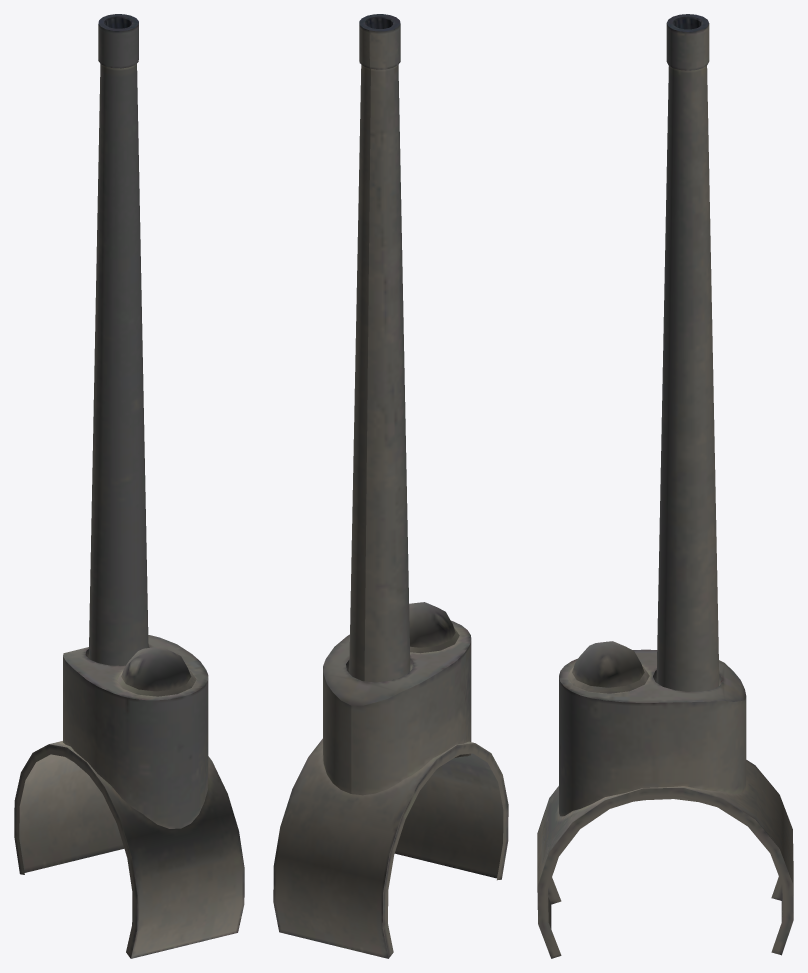
Rendered from Gun_03.glb.
3 views of the same model, side by side, from view 1: azimuth 30°, elevation 25°; view 2: azimuth 150°, elevation 25°; view 3: azimuth 270°, elevation 25° (orthographic). The views are drawn at different scales.
Parts seen in each view (by area): view 1: set_0_group_0; view 2: set_0_group_0; view 3: set_0_group_0.
Boxes of the visible parts, x1,y1,x2,y2 form: set_0_group_0: [14, 14, 244, 958]; set_0_group_0: [273, 14, 508, 958]; set_0_group_0: [537, 14, 793, 958].
Size of the model in its own units: 0.1782 by 1.39 by 0.3553.
Materials: 1 (1 with a texture image).
